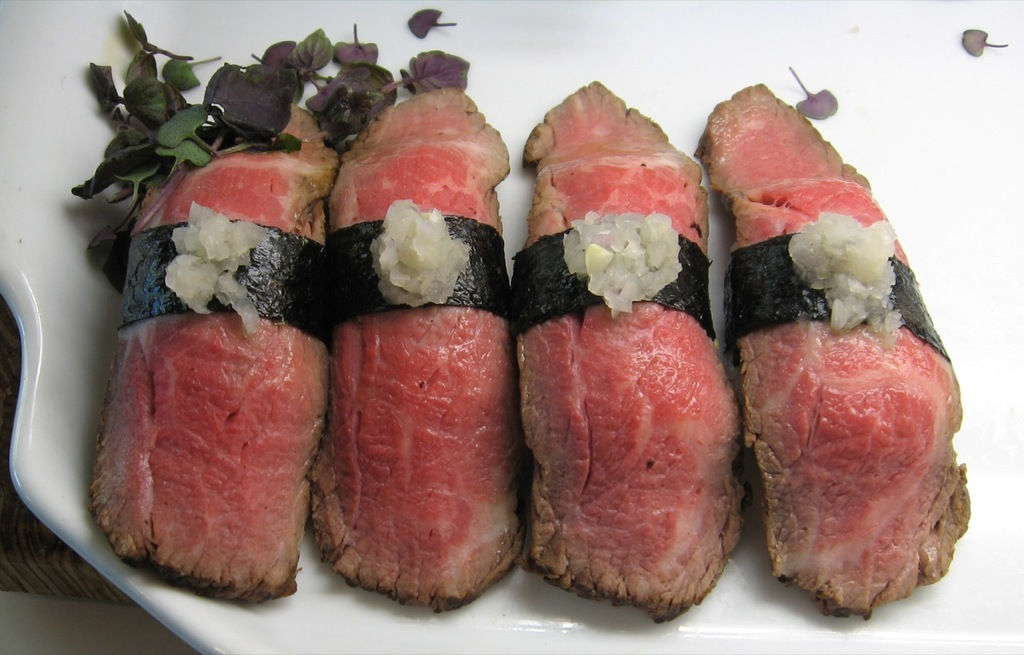sushi: (0, 89, 980, 608)
